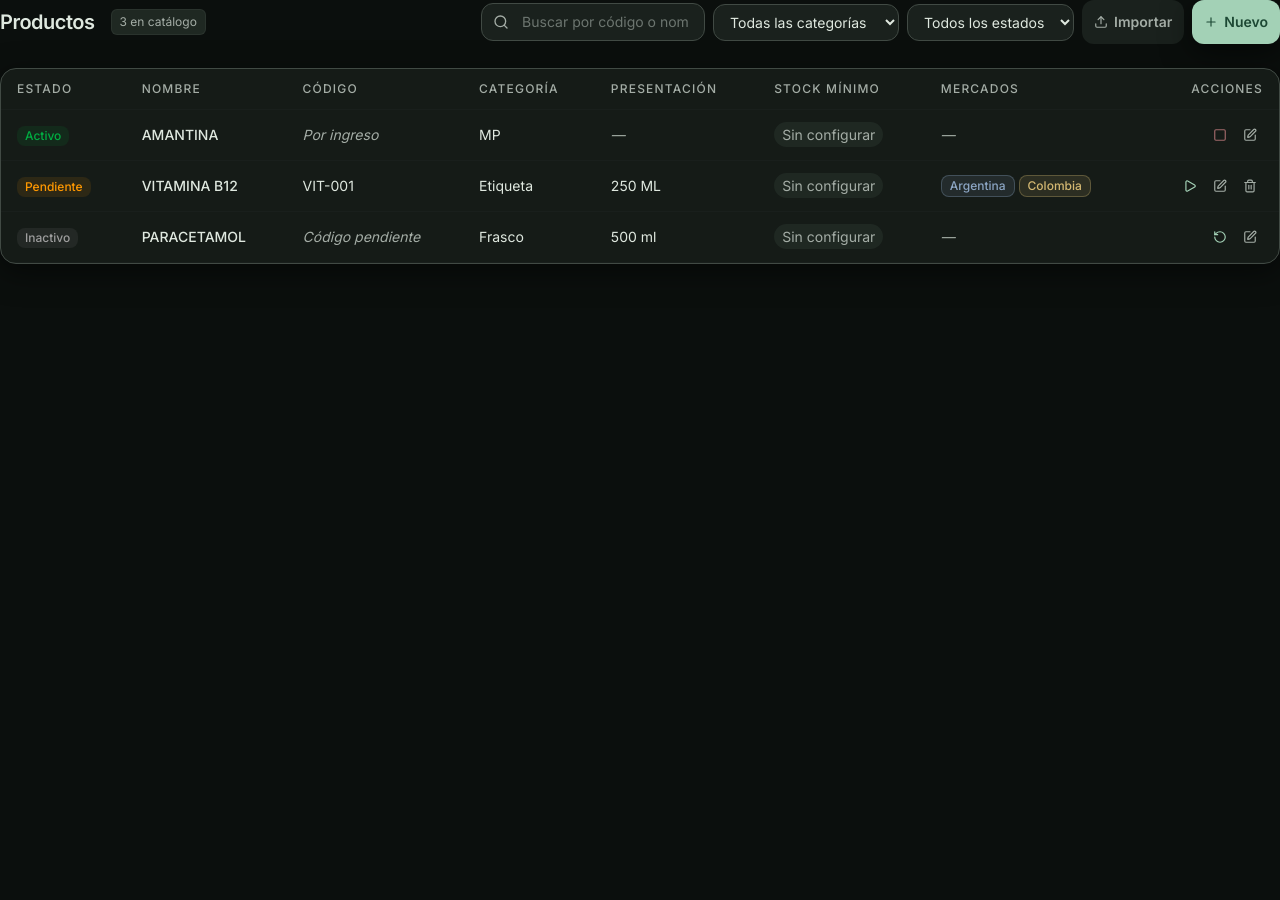
Scenario: ProductosPage › 4.3: Create form conditional fields › droga category hides both presentation and markets
Click the button "Nuevo" at (1236, 22), box 1192,0 -> 1279,44
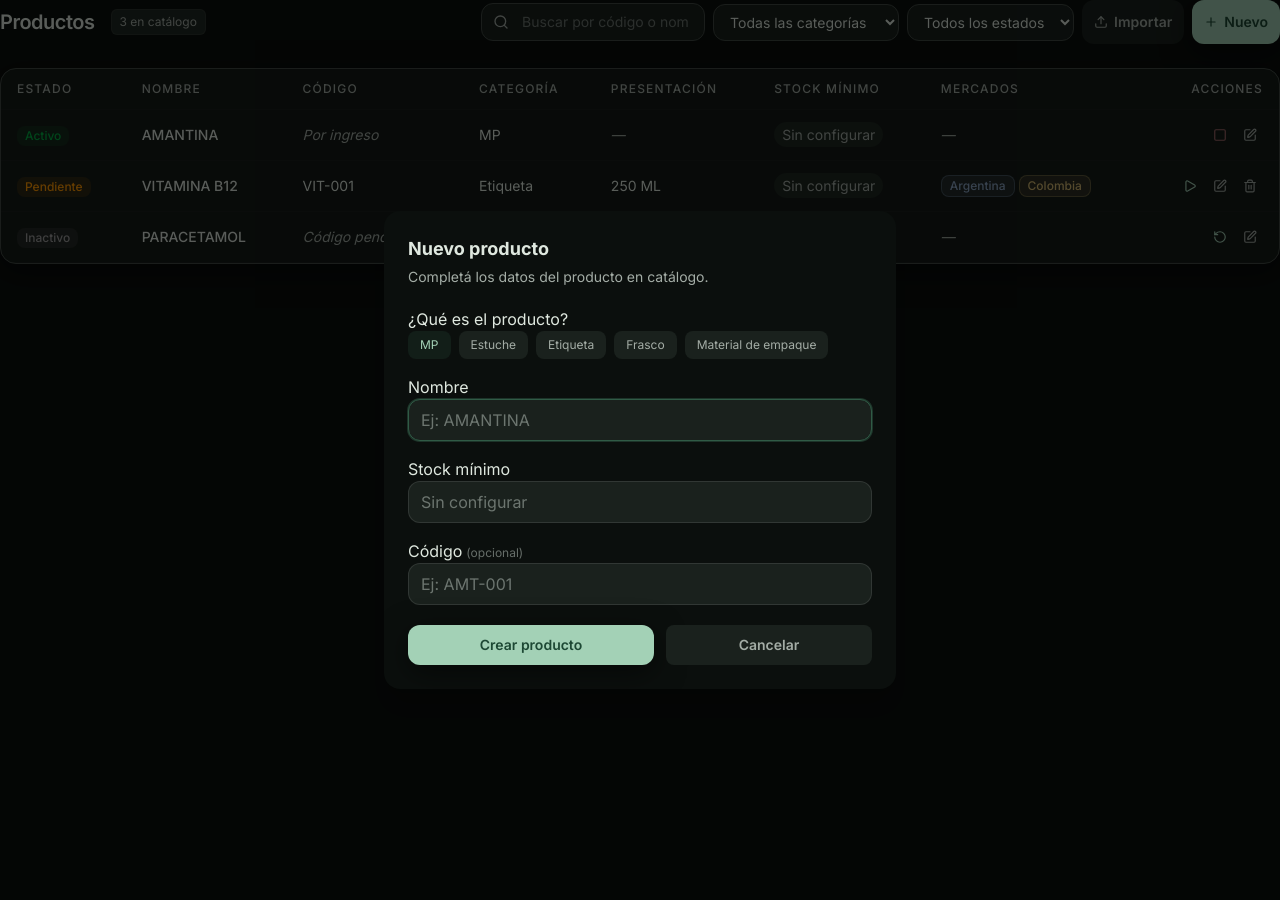
Expected: the heading "Nuevo producto" is shown, 408,238 -> 549,259
